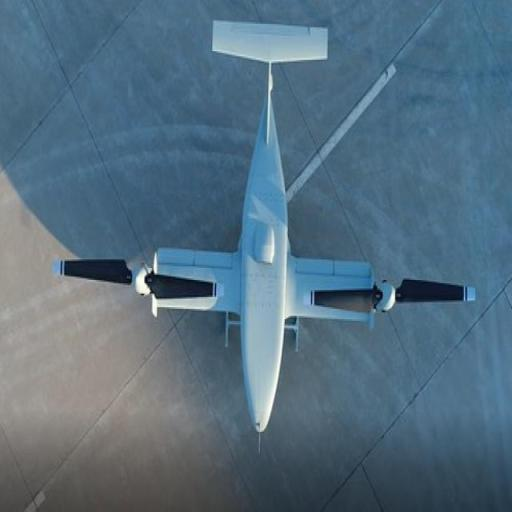uav: (53, 14, 492, 442)
